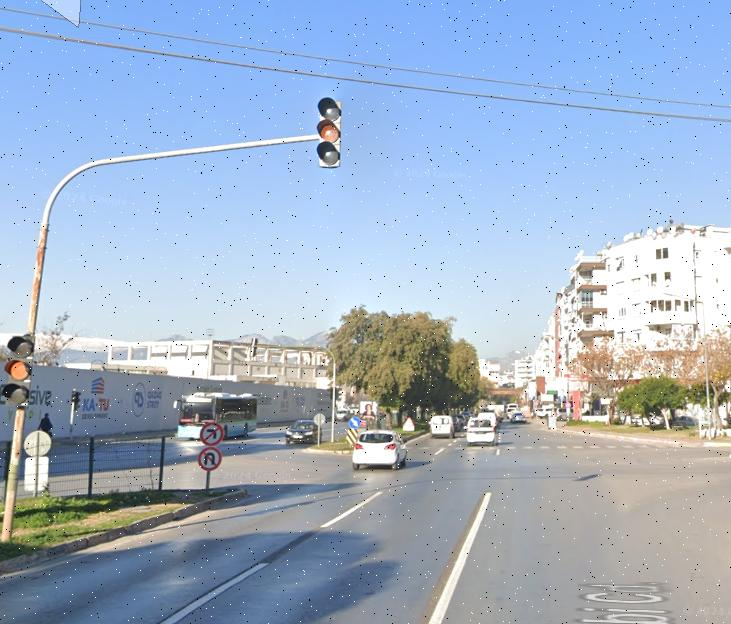leftturnsareforbidden: (201, 422, 222, 446)
yellowlight: (2, 330, 32, 412), (315, 93, 347, 166)
